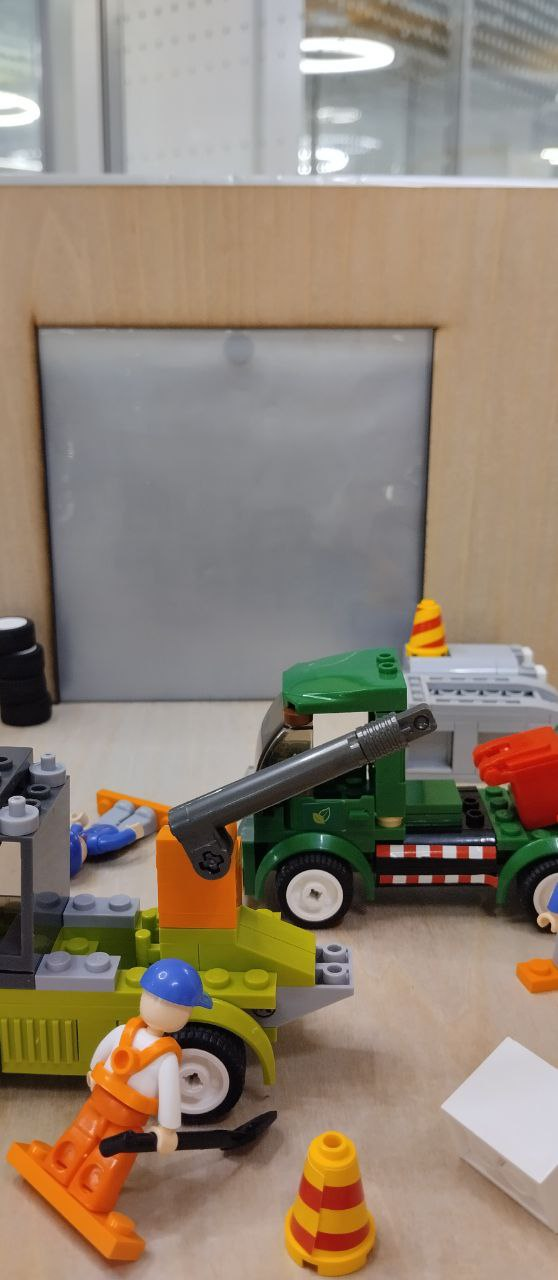Cone: (281, 1126, 385, 1278), (407, 603, 449, 659)
Crane: (0, 708, 438, 1117)
Object Red: (473, 723, 558, 828)
Object white: (439, 1037, 558, 1228)
Truck: (242, 643, 558, 932)
